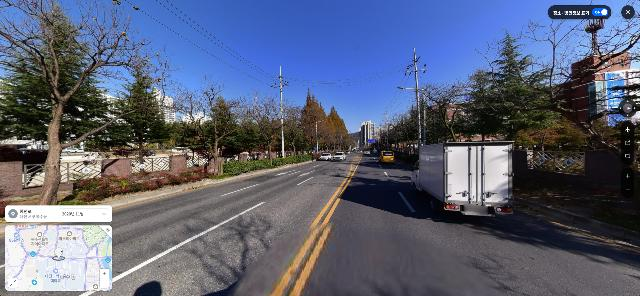other: (1, 1, 188, 206), (464, 1, 640, 199), (462, 26, 552, 141), (160, 72, 244, 176), (111, 59, 176, 156), (394, 75, 487, 142), (238, 82, 287, 166), (300, 87, 324, 160), (281, 94, 303, 156)
